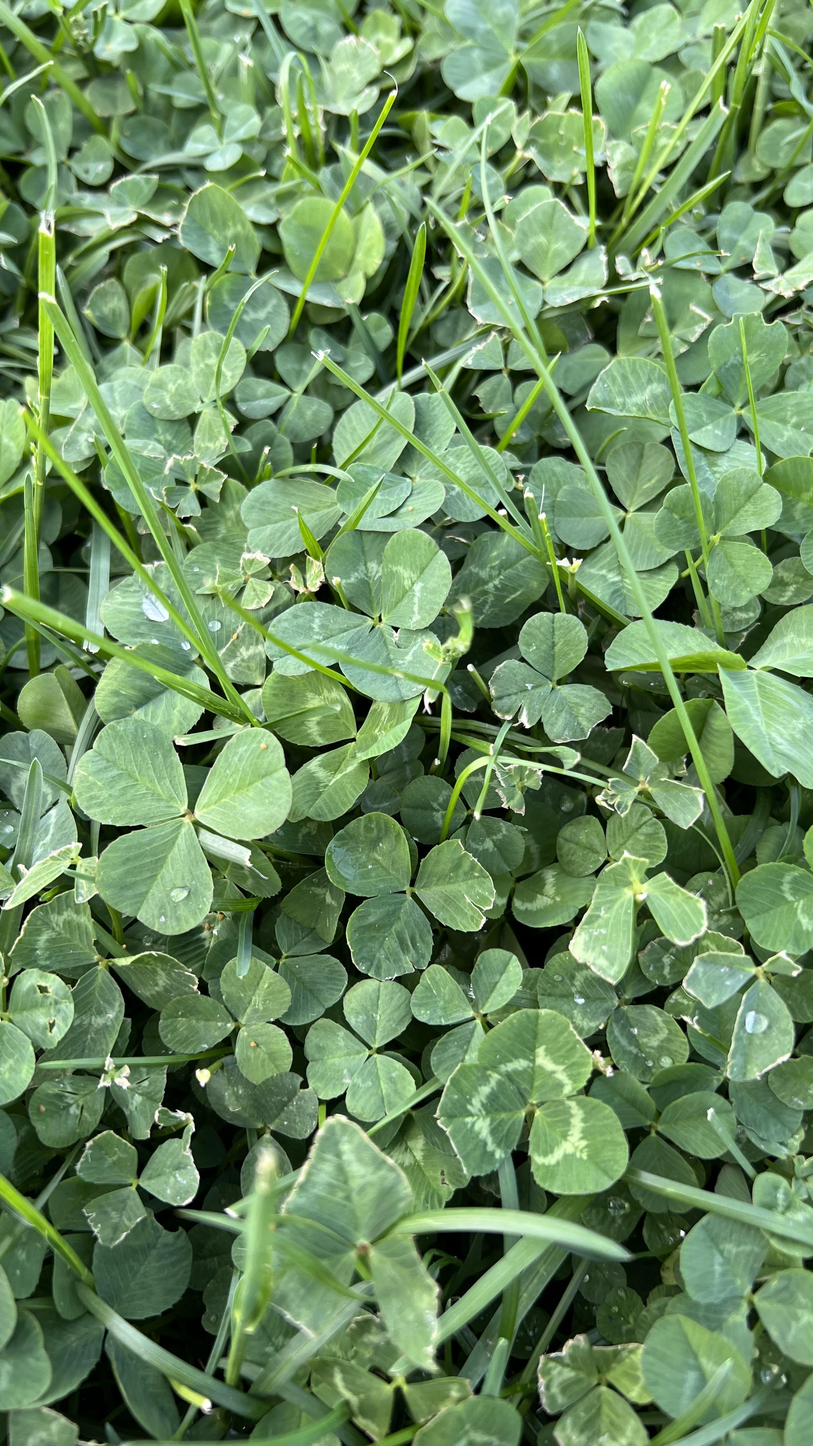4-Leaf-Clovers: (291, 633, 393, 968)
